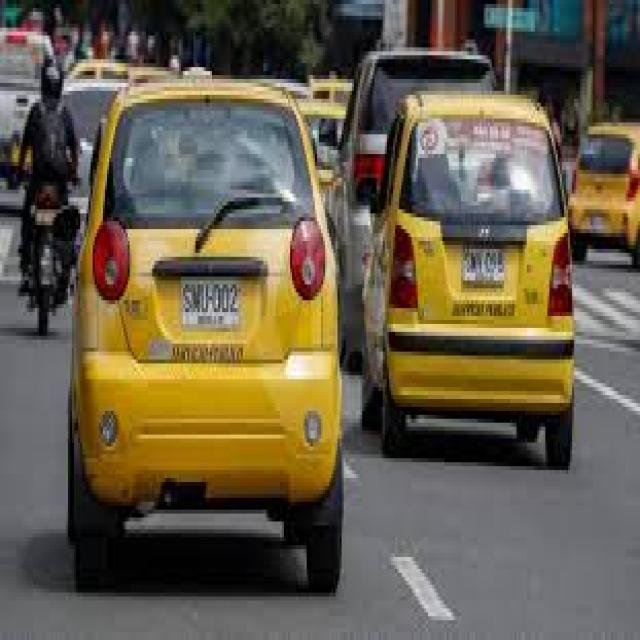number plate: (180, 277, 242, 327), (463, 243, 506, 287)
